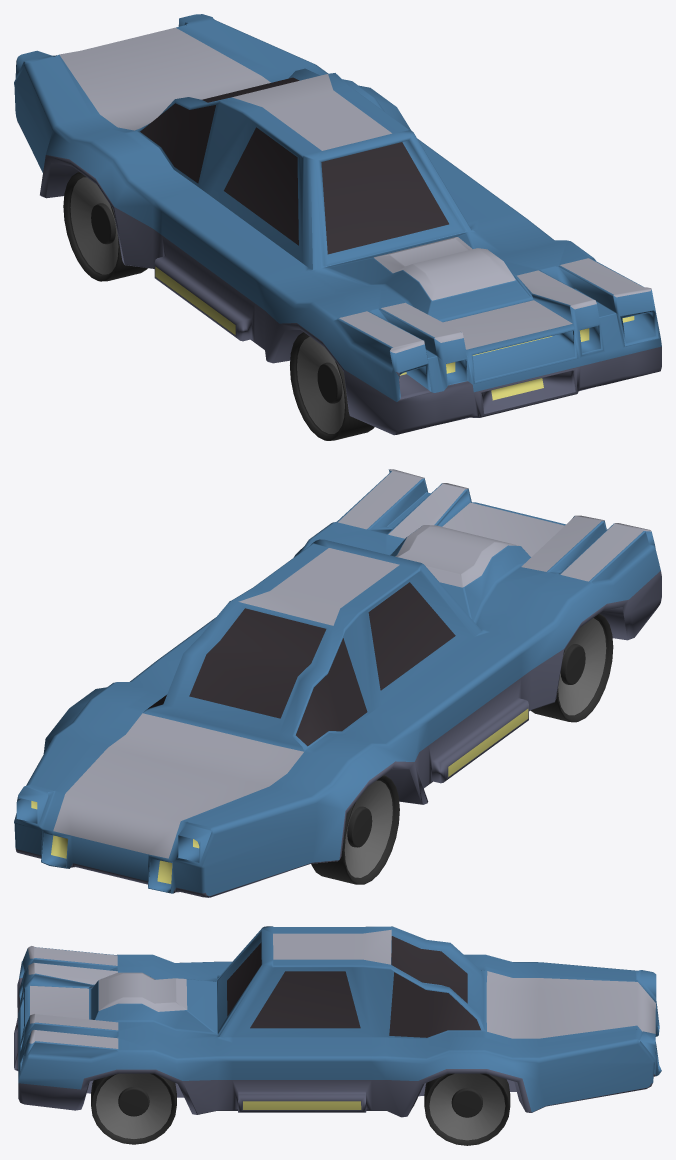
The model's file is Cadillac_Charger.fbx.
3 views of the same model, one above another, from view 1: azimuth 30°, elevation 25°; view 2: azimuth 150°, elevation 25°; view 3: azimuth 270°, elevation 25° (orthographic). The views are drawn at different scales.
Visible parts, largest first — view 1: Cadillac_Charger, Cadillac_Pneu_Avant_Droit, Cadillac_Pneu_Arrière_Droit; view 2: Cadillac_Charger, Cadillac_Pneu_Arrière_Droit, Cadillac_Pneu_Avant_Droit; view 3: Cadillac_Charger, Cadillac_Pneu_Arrière_Gauche, Cadillac_Pneu_Avant_Gauche.
Part boxes in pixels (x1,y1,x2,y2): Cadillac_Charger: (14, 14, 661, 435); Cadillac_Pneu_Avant_Droit: (290, 332, 374, 440); Cadillac_Pneu_Arrière_Droit: (63, 171, 147, 281); Cadillac_Charger: (14, 469, 661, 897); Cadillac_Pneu_Arrière_Droit: (311, 775, 399, 884); Cadillac_Pneu_Avant_Droit: (530, 613, 613, 722); Cadillac_Charger: (14, 926, 661, 1117); Cadillac_Pneu_Arrière_Gauche: (424, 1073, 510, 1145); Cadillac_Pneu_Avant_Gauche: (91, 1073, 176, 1144).
Bounding box in the file's own units: 1.3 × 0.813 × 3.2.
